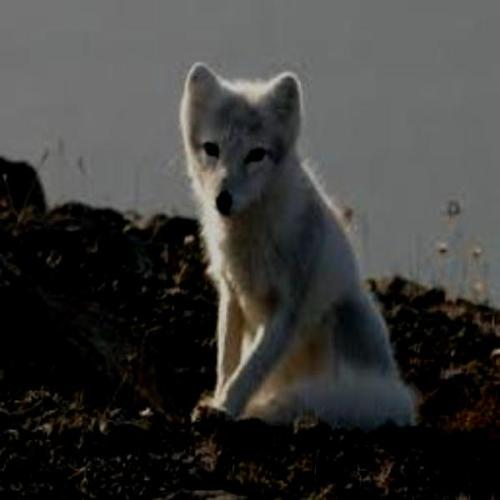arctic_fox-endangered: (178, 64, 417, 426)
